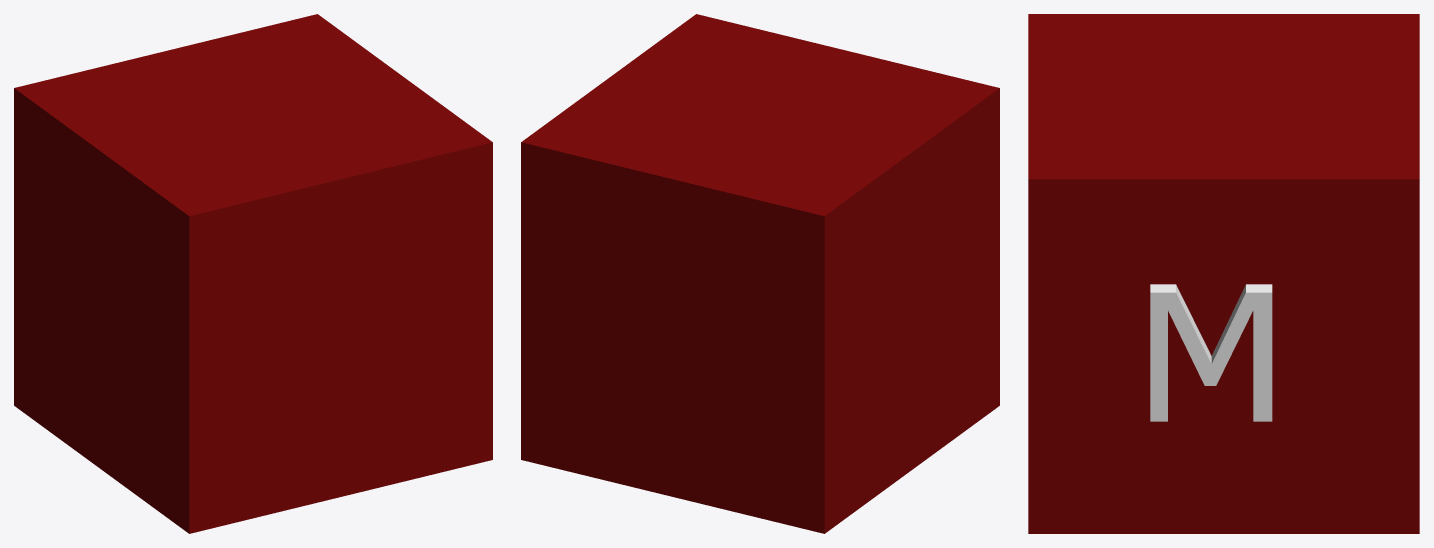
3 views of the same model, side by side, from view 1: azimuth 30°, elevation 25°; view 2: azimuth 150°, elevation 25°; view 3: azimuth 270°, elevation 25° (orthographic). The views are drawn at different scales.
Parts seen in each view (by area): view 1: SketchUp; view 2: SketchUp; view 3: SketchUp, M.
Boxes of the visible parts, bbox=[...] form: SketchUp: bbox=[14, 14, 492, 533]; SketchUp: bbox=[521, 14, 999, 533]; SketchUp: bbox=[1028, 14, 1419, 533]; M: bbox=[1150, 284, 1272, 421].
Bounding box in the file's own units: 21 × 20 × 20.
